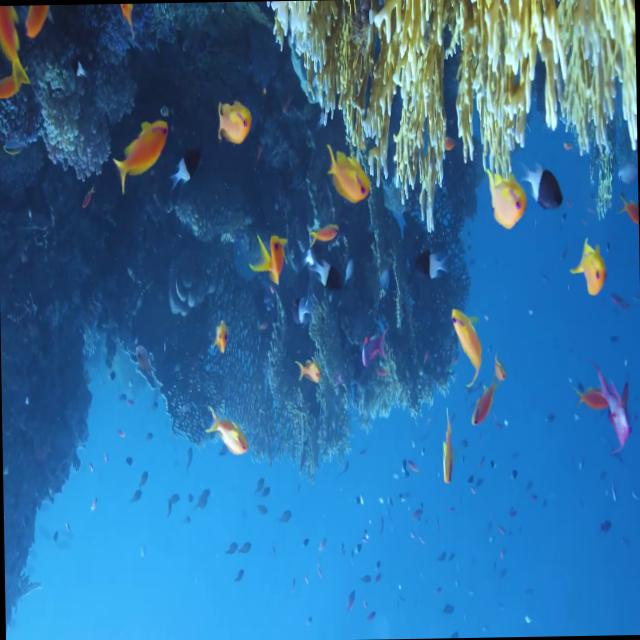fish: (112, 111, 176, 194), (317, 138, 377, 210), (447, 299, 490, 381), (592, 364, 628, 453), (432, 401, 462, 497), (205, 396, 248, 459), (212, 90, 254, 154), (524, 160, 568, 221), (248, 231, 288, 293), (293, 205, 339, 258), (568, 237, 606, 300), (569, 369, 611, 426), (486, 166, 524, 228), (466, 368, 499, 432), (292, 350, 336, 397), (168, 151, 208, 200), (347, 330, 389, 376), (0, 5, 24, 85), (415, 238, 451, 288), (308, 252, 346, 296), (207, 319, 234, 360), (26, 5, 50, 51)
